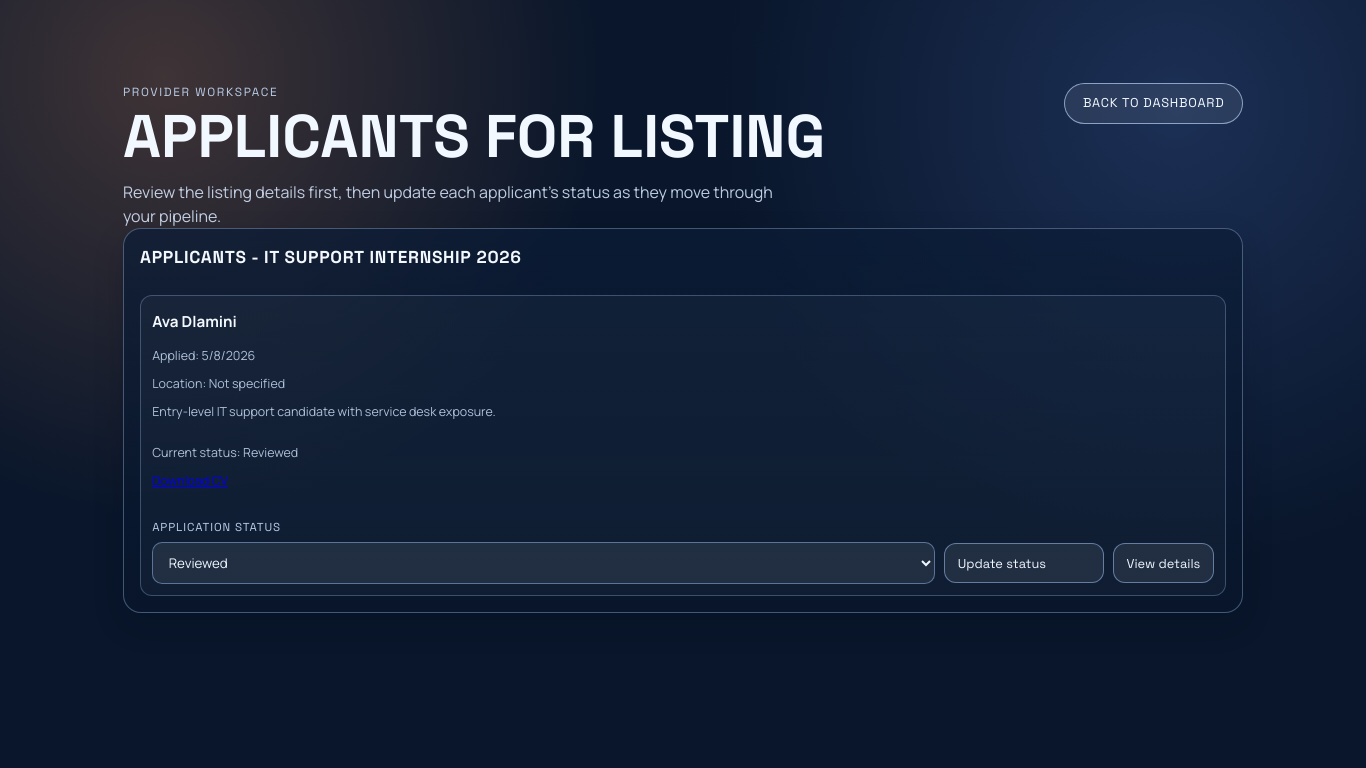
Provider manage application statuses acceptance tests › 4. Changing an applicant status falls back to Received if the database rejects Pending
The image size is (1366, 768).
Expected: the text "Ava Dlamini" is shown, [152, 311, 237, 332]
Select "Pending" in the dropdown named "Application status for Ava Dlamini" at (544, 563), box [152, 542, 936, 584]
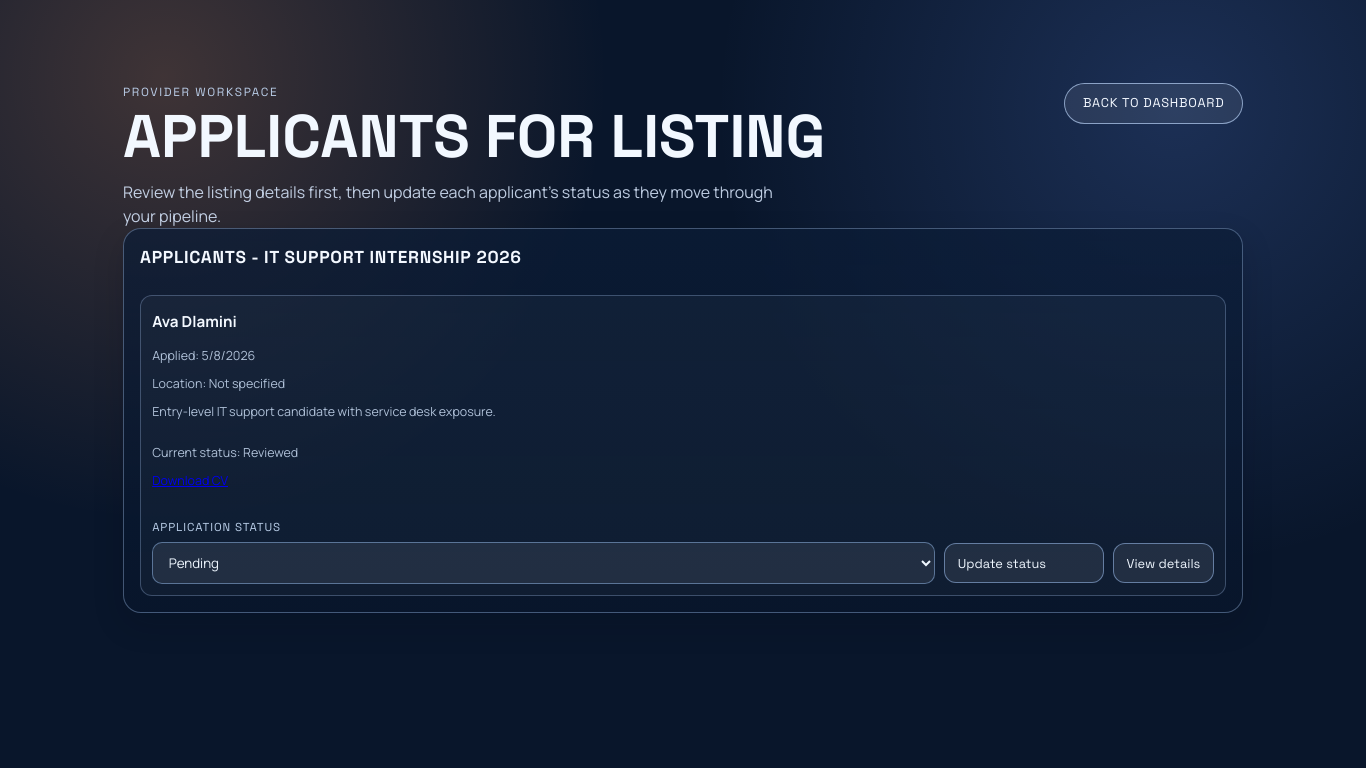
Click the button "Update status" at (1024, 563), box [944, 543, 1104, 583]
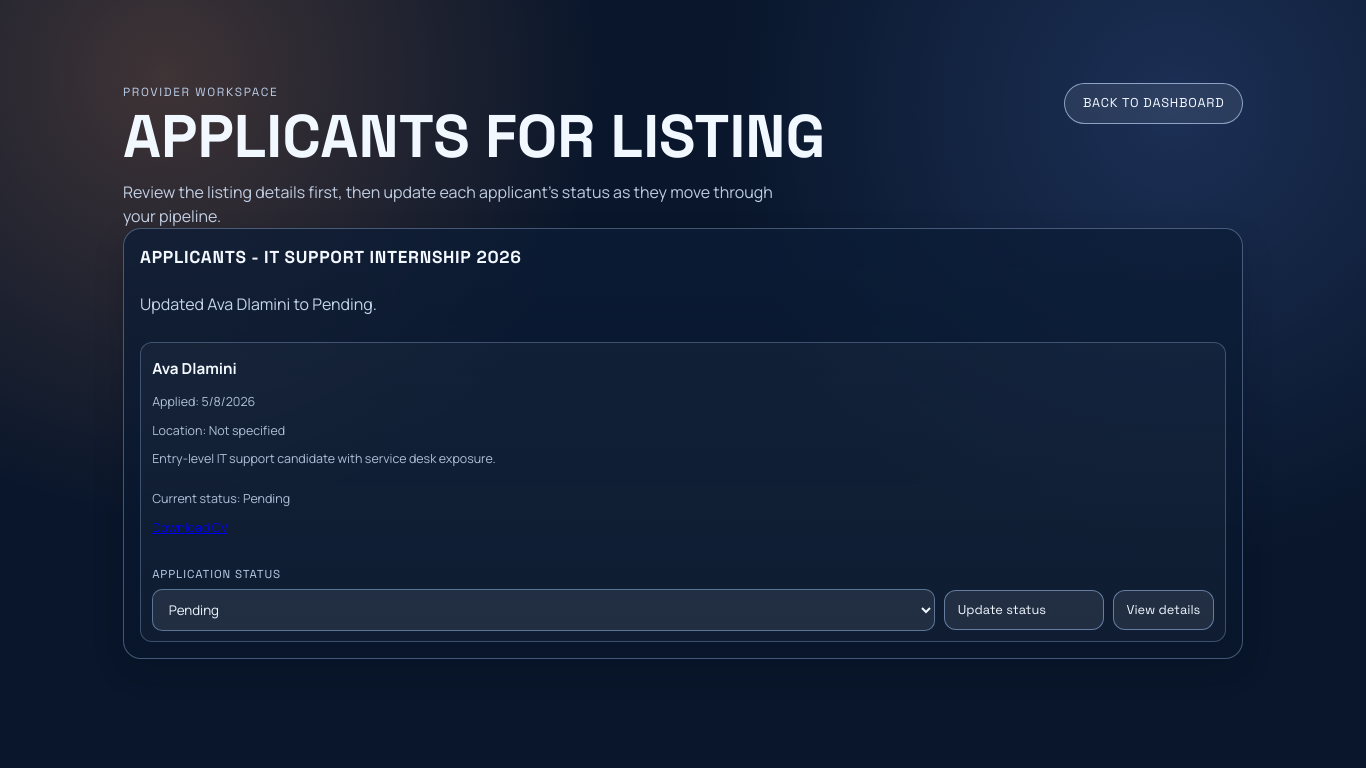
Result: the text "Current status: Pending" is shown at [152, 490, 290, 507]
